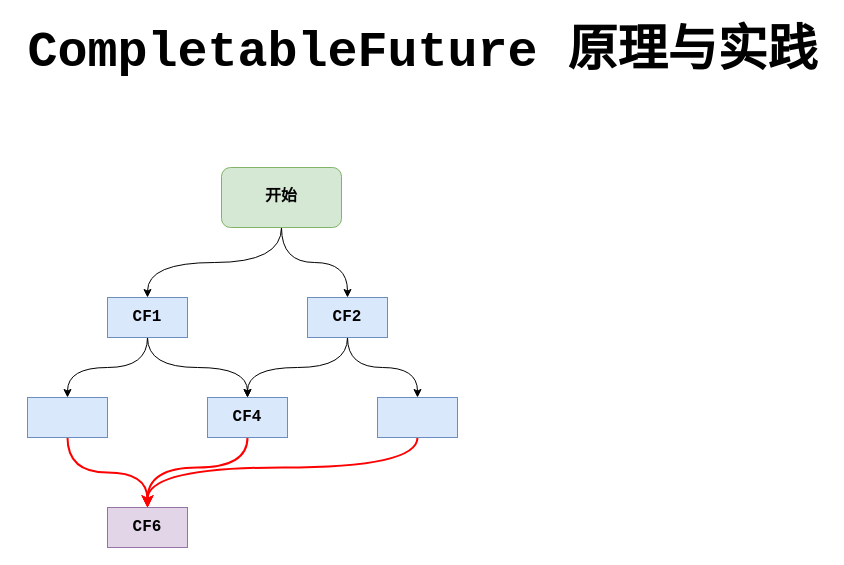
Some shapes in this 844 by 565 pixel diagram are drawn without their labels. The shapes that lost their labels are listed below. From the top down, each one's centre as x and y in pixels, then its label:
(x=67, y=417): CF3
(x=417, y=417): CF5
